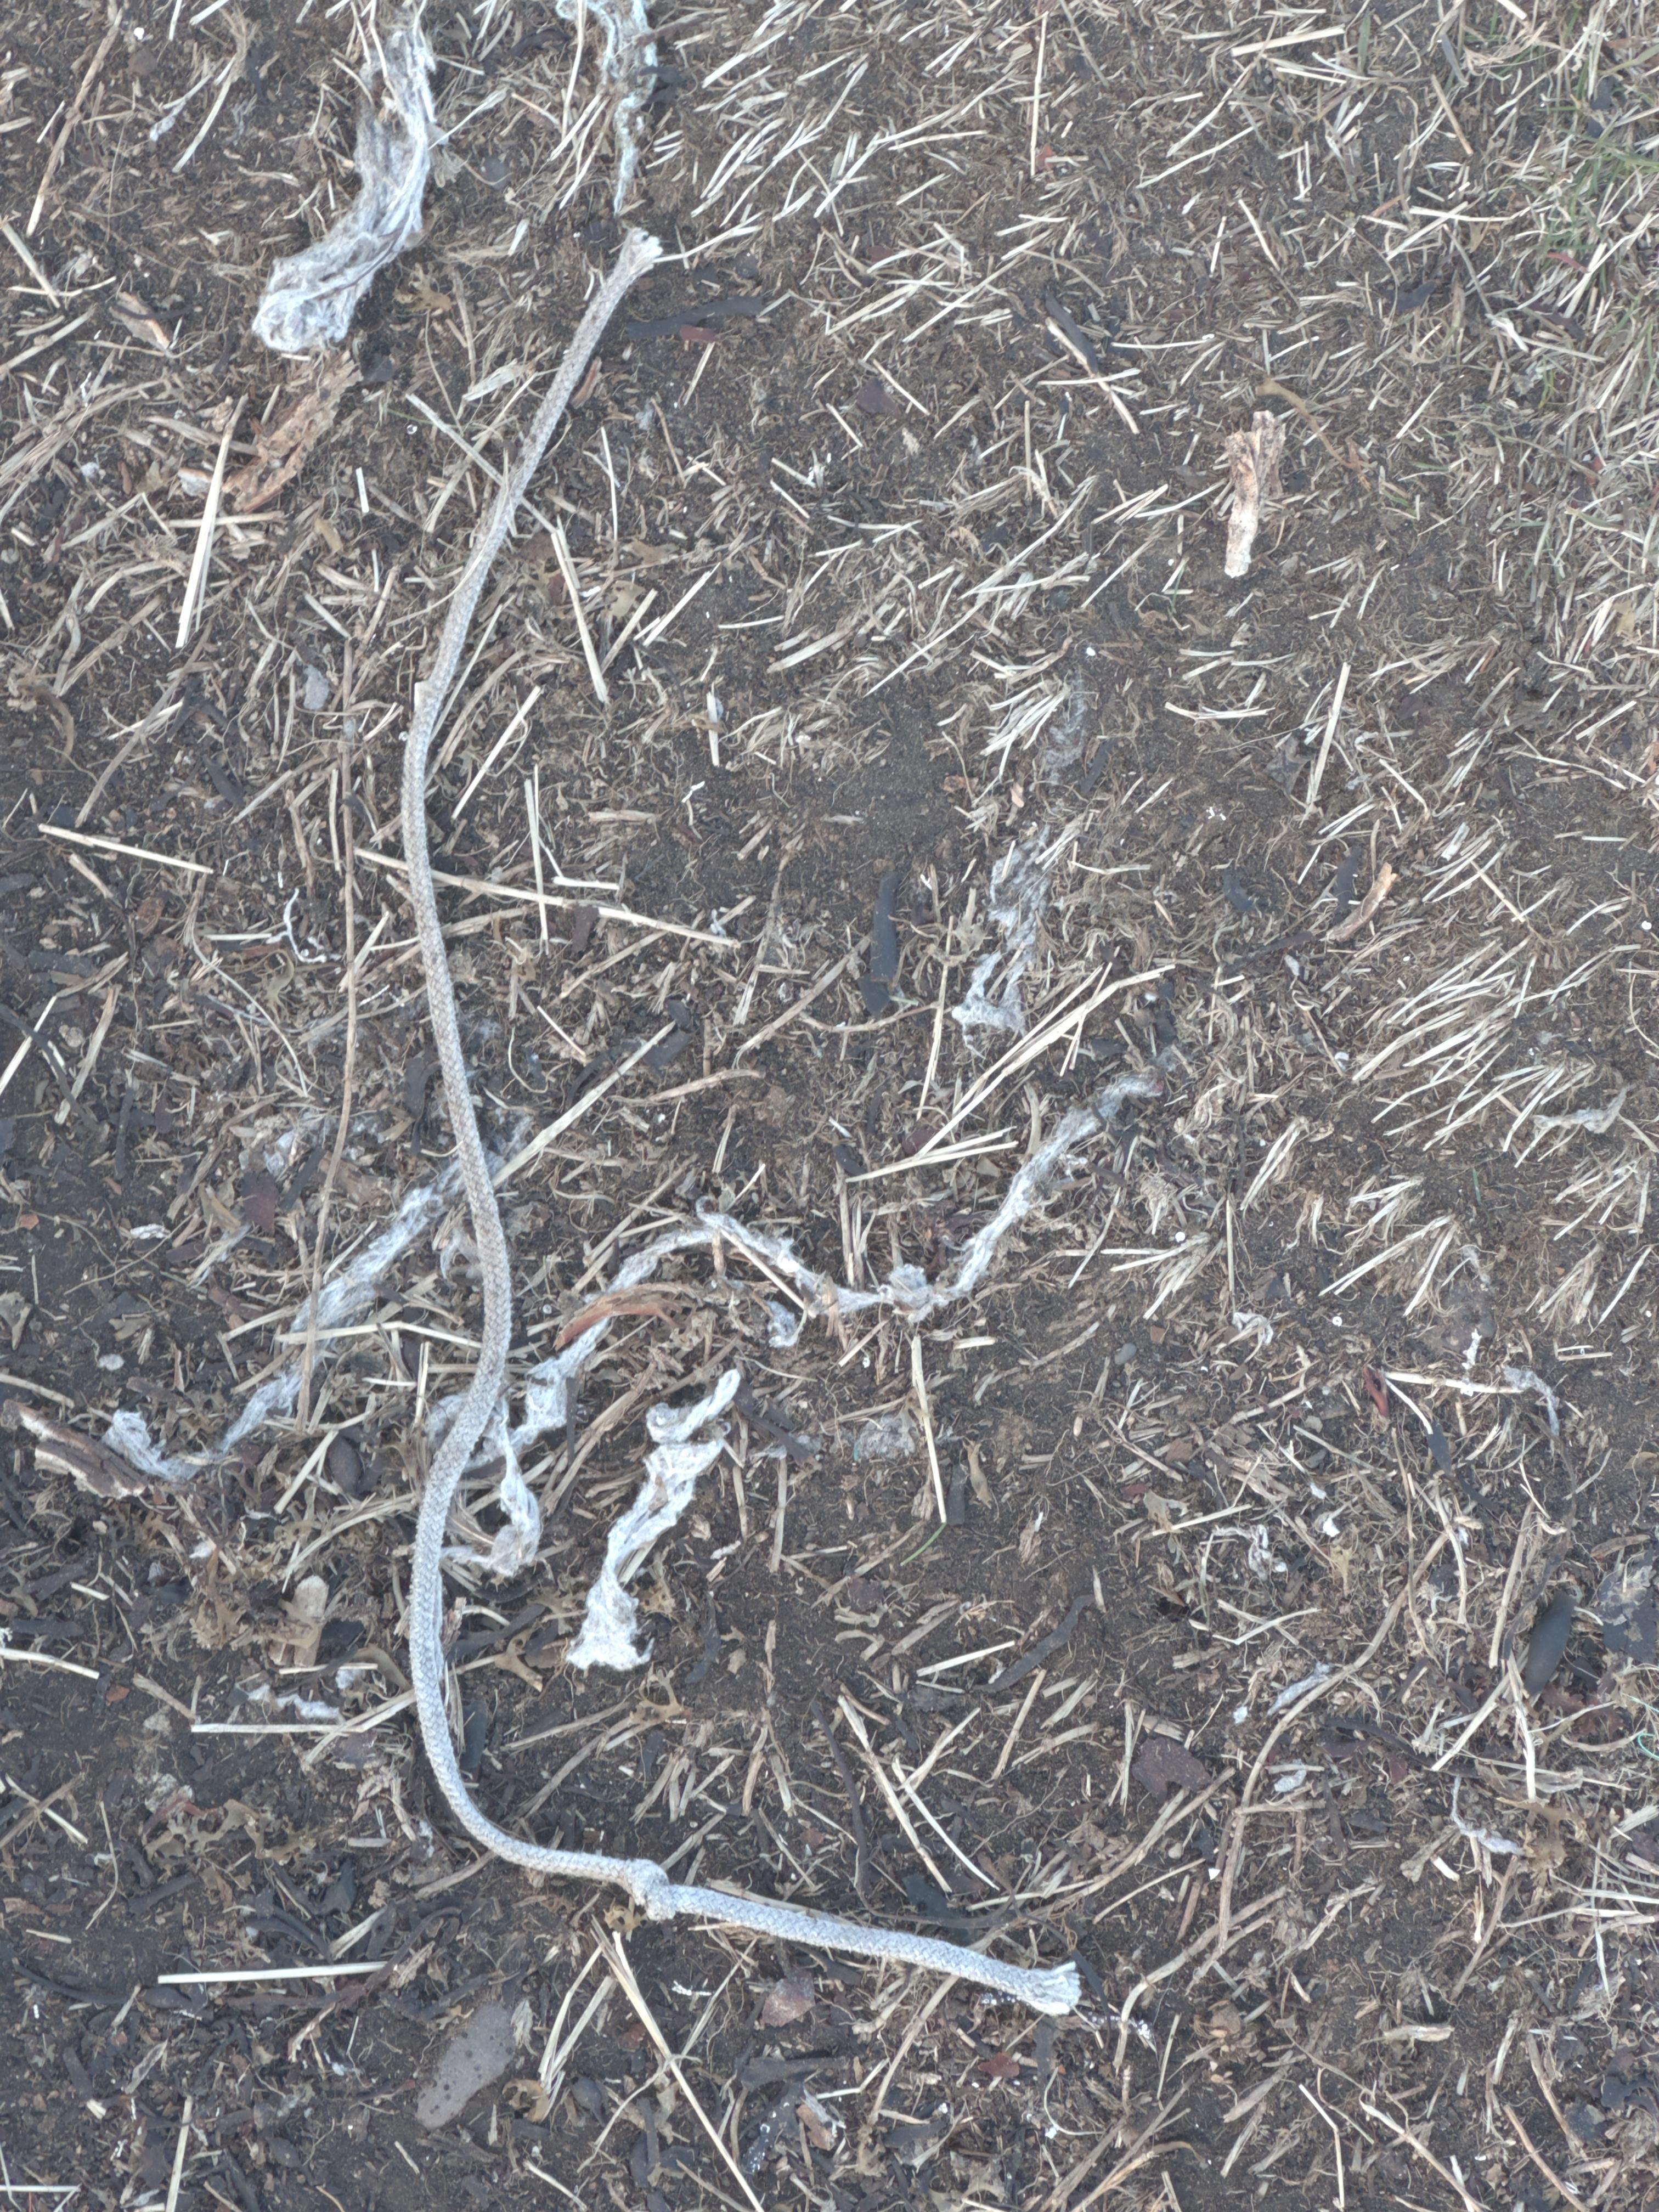trash: (397, 228, 1075, 2013), (613, 1071, 1157, 1343), (108, 1162, 462, 1482), (251, 9, 436, 354), (566, 1369, 742, 1672)
